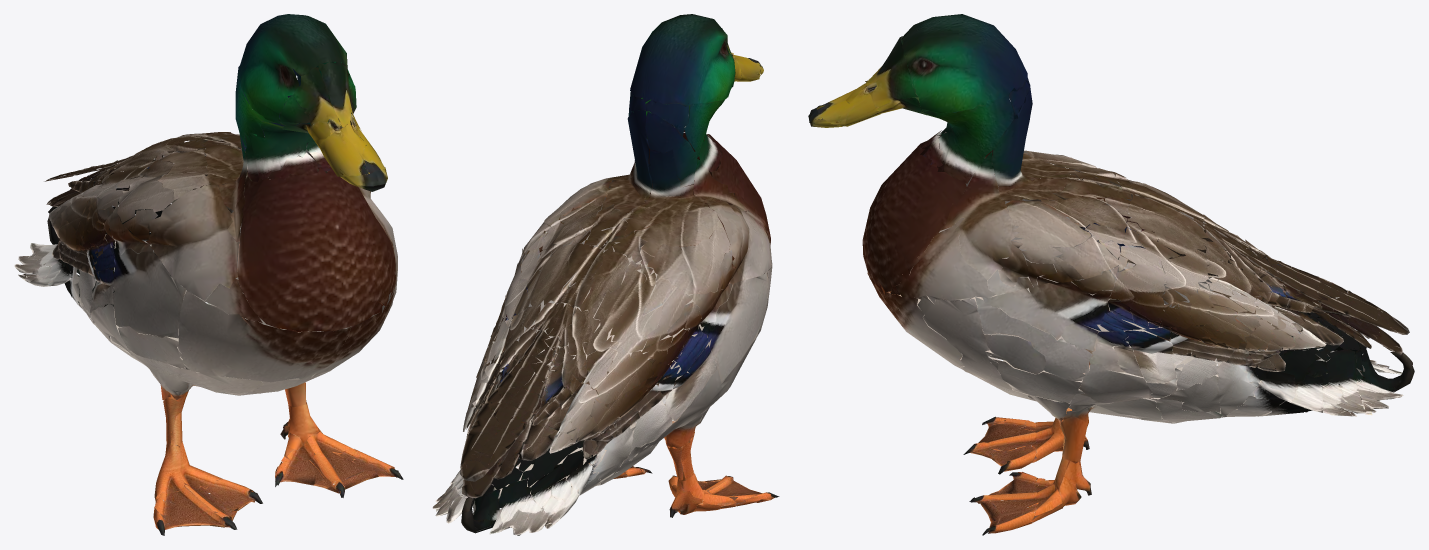
File: duck.glb
3 views of the same model, side by side, from view 1: azimuth 30°, elevation 25°; view 2: azimuth 150°, elevation 25°; view 3: azimuth 270°, elevation 25° (orthographic). The views are drawn at different scales.
Parts seen in each view (by area): view 1: Mesh_0; view 2: Mesh_0; view 3: Mesh_0.
Part boxes in pixels (box(x1,y1,x2,y2)): Mesh_0: box(14, 14, 403, 535); Mesh_0: box(432, 14, 779, 535); Mesh_0: box(808, 14, 1414, 535).
Bounding box in the file's own units: 0.8138 × 1.61 × 1.9.
1 material, 1 textured.
